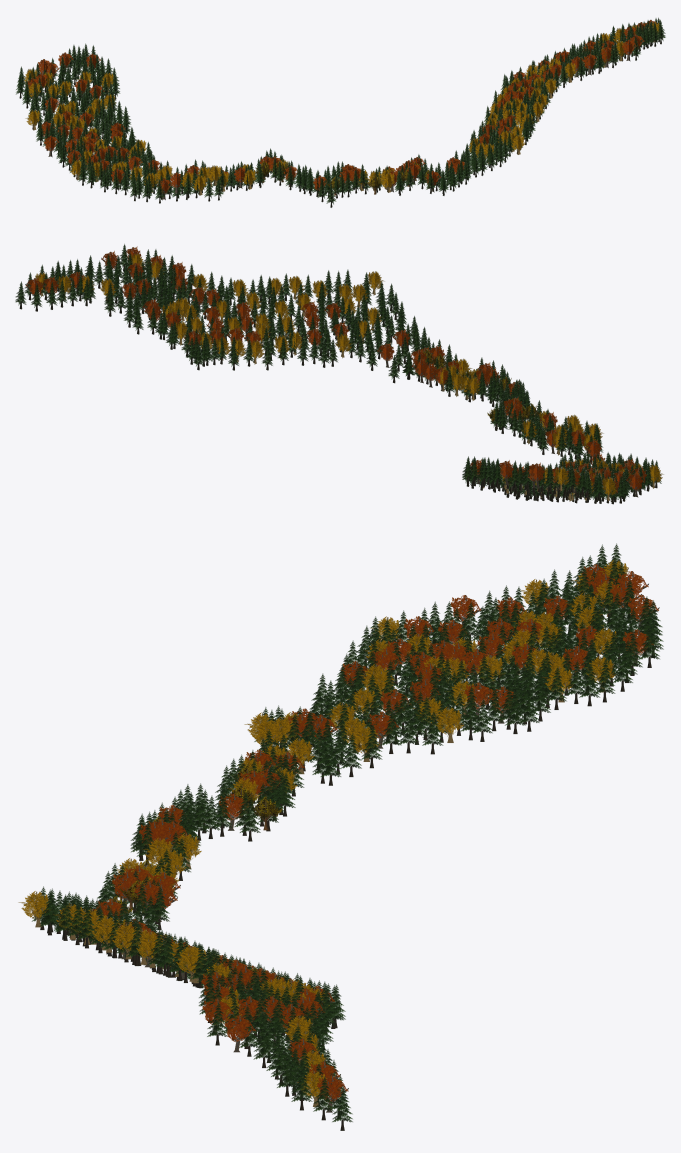
Rendered from lowpoly_trees_4_a.glb.
The picture shows the model from 3 angles, top to bottom: view 1: azimuth 30°, elevation 25°; view 2: azimuth 150°, elevation 25°; view 3: azimuth 270°, elevation 25°; orthographic projection. The views are drawn at different scales.
Parts seen in each view (by area): view 1: fir_tree.png__, tree_d.png__, tree_c.png__, tree_b.png__; view 2: fir_tree.png__, tree_d.png__, tree_c.png__, tree_b.png__; view 3: fir_tree.png__, tree_c.png__, tree_d.png__, tree_b.png__.
Boxes of the visible parts, bbox=[...] form: fir_tree.png__: bbox=[16, 17, 665, 207]; tree_d.png__: bbox=[23, 22, 659, 195]; tree_c.png__: bbox=[27, 19, 656, 199]; tree_b.png__: bbox=[254, 159, 433, 195]; fir_tree.png__: bbox=[15, 244, 661, 504]; tree_d.png__: bbox=[35, 253, 663, 501]; tree_c.png__: bbox=[25, 246, 646, 502]; tree_b.png__: bbox=[423, 349, 541, 428]; fir_tree.png__: bbox=[32, 543, 663, 1130]; tree_c.png__: bbox=[91, 564, 659, 1112]; tree_d.png__: bbox=[18, 560, 629, 1106]; tree_b.png__: bbox=[98, 764, 282, 913].
Size of the model in its own units: 511 by 79.81 by 274.
4 materials, 4 textured.
